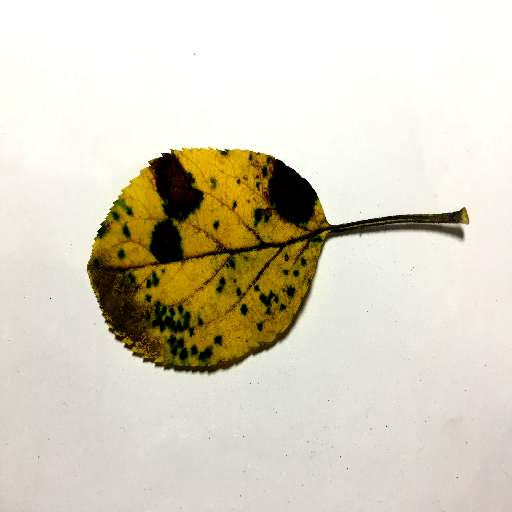Brown_Spot: (88, 267, 172, 363), (266, 170, 317, 222), (159, 159, 203, 218), (147, 228, 186, 258)
